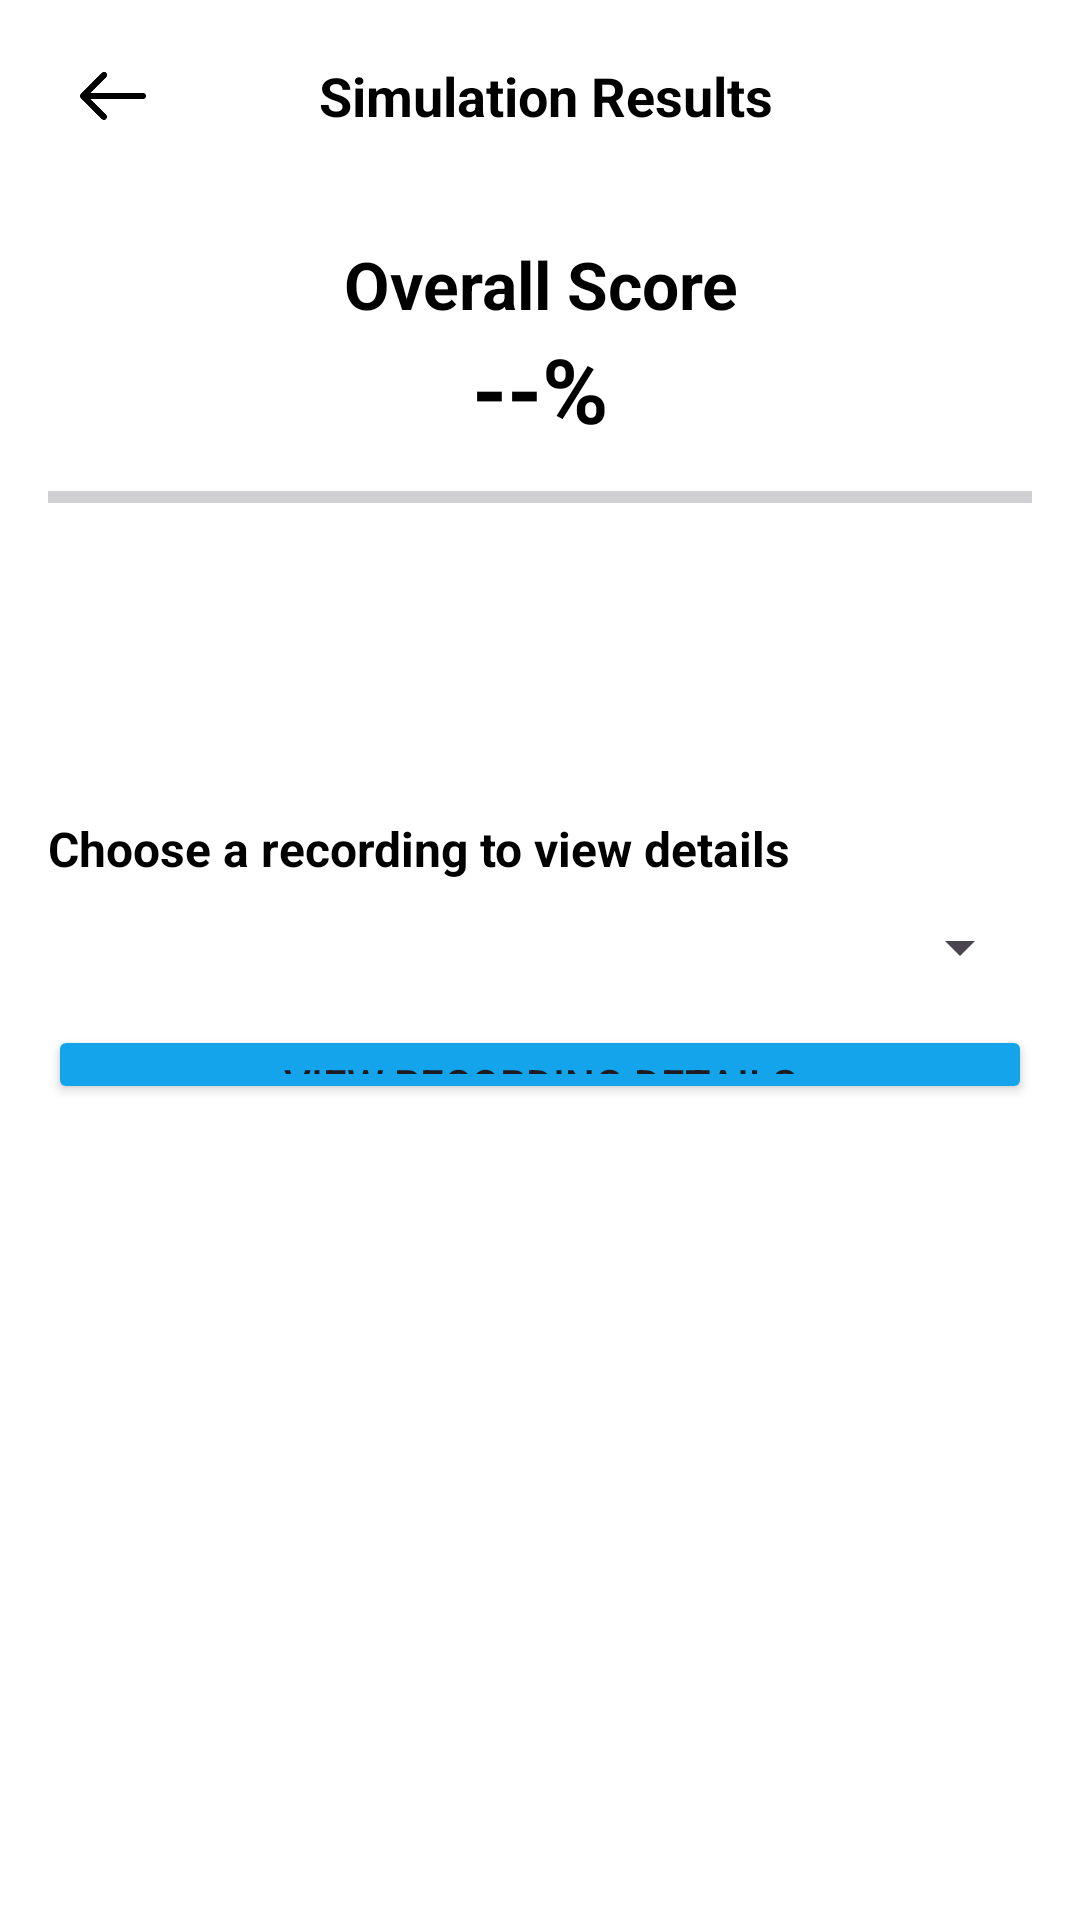

Named icons in this screenshot (1080*1920) and their centers, (x=x, y=y):
arrow back: (x=113, y=96)
